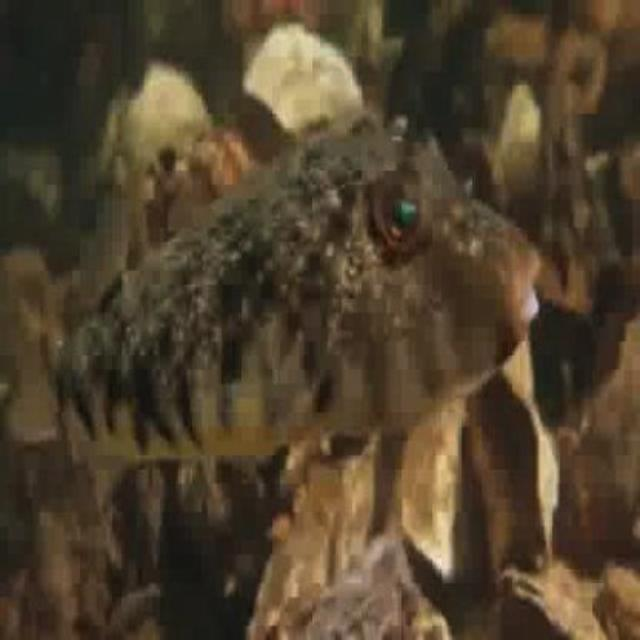Oyster-Closed: (395, 340, 534, 591), (269, 532, 456, 640), (246, 30, 365, 139), (7, 256, 62, 444), (118, 64, 213, 162), (497, 571, 604, 640), (111, 581, 210, 640), (499, 89, 543, 206), (95, 82, 130, 176), (602, 564, 640, 640)
Oyster-Open: (155, 146, 188, 203)
